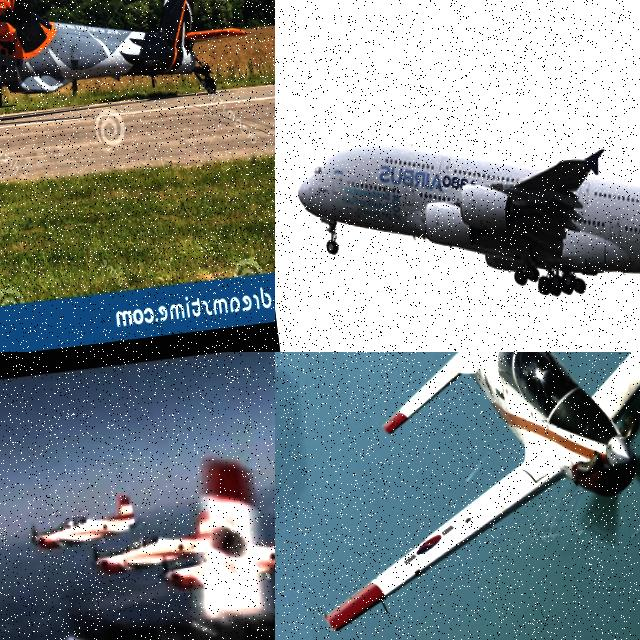A380: (287, 60, 640, 323)
Apache: (0, 0, 228, 169)
KT-1: (280, 352, 640, 633), (40, 430, 275, 640), (151, 504, 275, 602), (89, 509, 238, 578), (22, 496, 144, 564)
